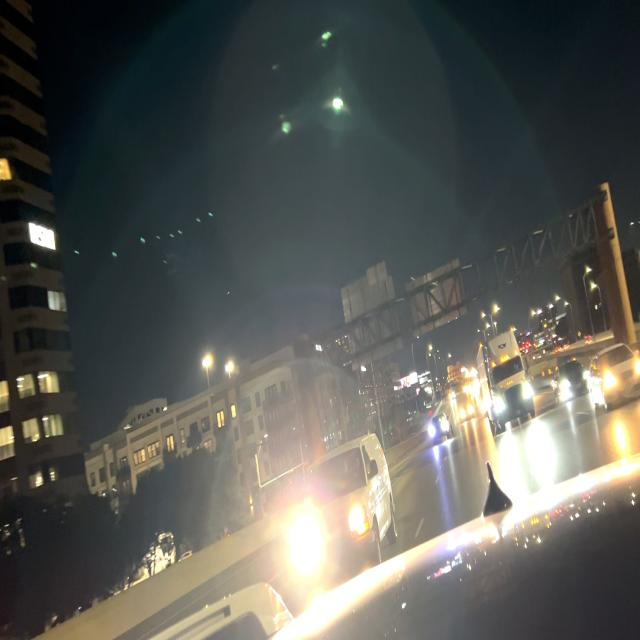back-of-sign: (340, 261, 403, 371), (407, 258, 468, 337)
